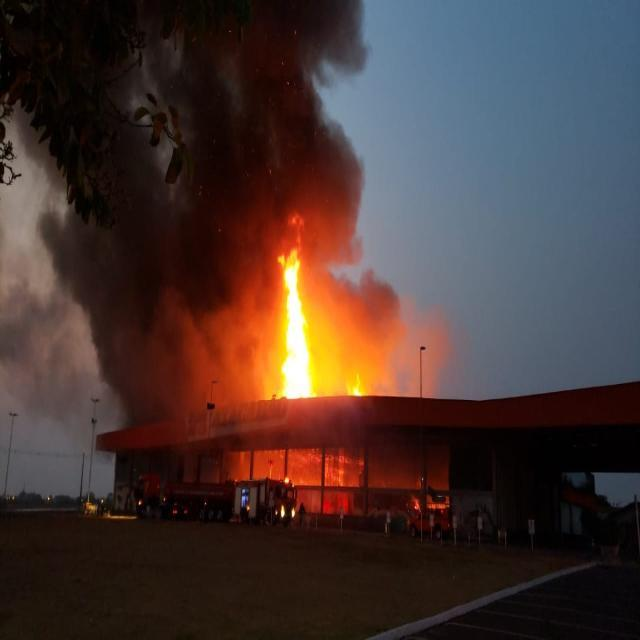Fire: (279, 281, 312, 402)
